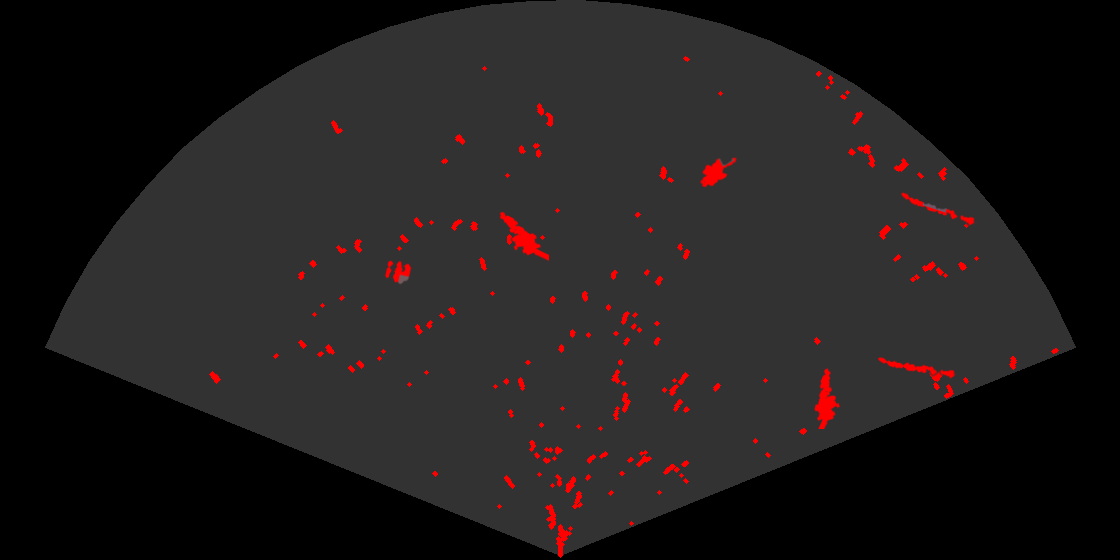AUV: (698, 156, 739, 189)
ball: (384, 259, 413, 285)
chain: (899, 191, 977, 227), (876, 356, 956, 380)
frogman: (498, 210, 549, 263), (813, 366, 842, 429)
